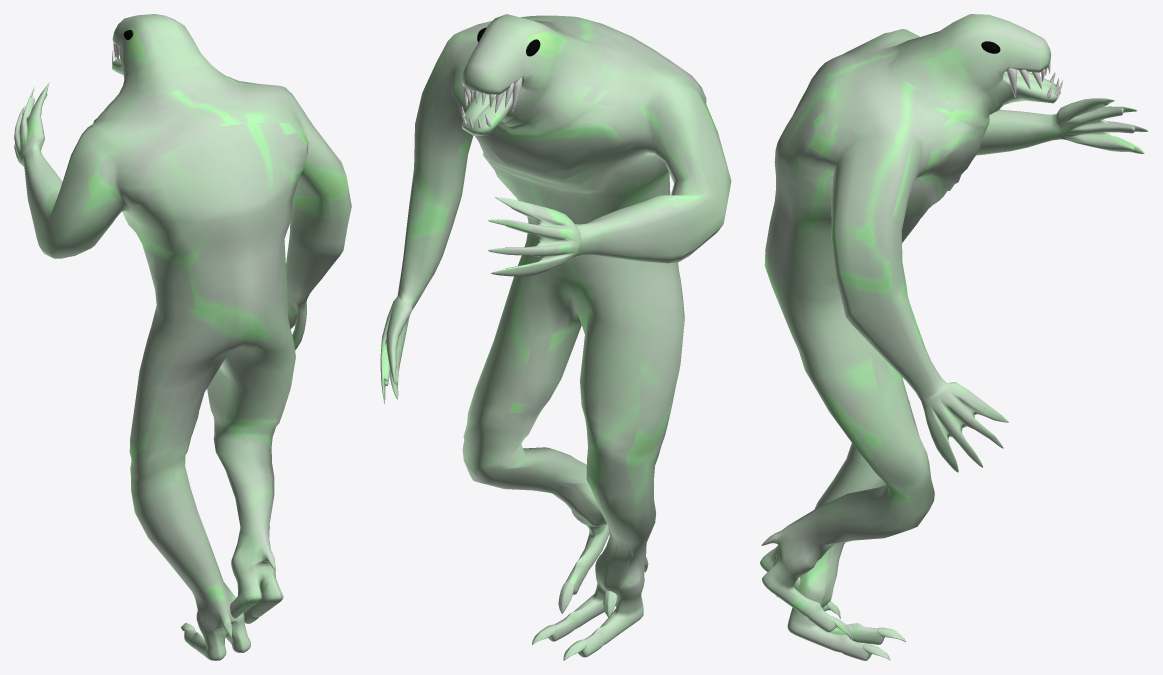
Rendered from Berserkercorrer.0069.obj.
The picture shows the model from 3 angles, left to right: view 1: azimuth 30°, elevation 25°; view 2: azimuth 150°, elevation 25°; view 3: azimuth 270°, elevation 25°; orthographic projection. The views are drawn at different scales.
Parts seen in each view (by area): view 1: polySurface27; view 2: polySurface27; view 3: polySurface27.
Boxes of the visible parts, box(x1,y1,x2,y2) form: polySurface27: box(14, 14, 351, 660); polySurface27: box(380, 14, 731, 660); polySurface27: box(760, 14, 1148, 660).
Bounding box in the file's own units: 11.42 × 23.06 × 12.86.
Materials: 1 (1 with a texture image).
